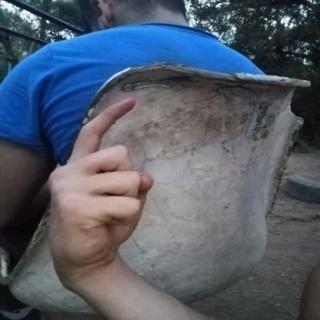RAA: (37, 92, 160, 282)
